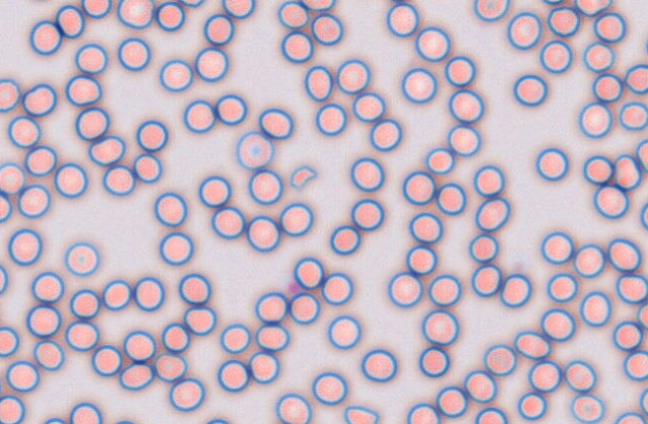RBC: (235, 130, 274, 169), (421, 308, 459, 345), (506, 11, 542, 49), (387, 271, 423, 307), (401, 67, 437, 103), (7, 228, 42, 265), (248, 168, 283, 205), (53, 162, 88, 198), (474, 196, 510, 231), (335, 58, 370, 94), (168, 377, 205, 411), (360, 348, 397, 382), (246, 215, 280, 252), (578, 101, 612, 138), (415, 26, 450, 61), (64, 241, 99, 276), (593, 184, 629, 218), (311, 371, 347, 405), (158, 231, 194, 265), (448, 89, 484, 123), (153, 191, 187, 227), (327, 314, 361, 349), (607, 237, 641, 272), (350, 156, 384, 191), (158, 58, 193, 92), (25, 304, 61, 337), (195, 46, 228, 82), (579, 290, 611, 327), (65, 74, 102, 106), (88, 135, 126, 166), (463, 369, 497, 403), (279, 202, 313, 236), (17, 184, 51, 218), (75, 106, 109, 140), (117, 37, 151, 71), (535, 147, 569, 181), (402, 170, 435, 205), (386, 2, 419, 37), (22, 83, 57, 116), (29, 20, 62, 55), (573, 243, 606, 278), (540, 308, 575, 341), (211, 206, 245, 239), (7, 115, 41, 148), (527, 359, 561, 392), (182, 99, 215, 133), (540, 231, 574, 264), (539, 39, 572, 73), (5, 360, 40, 392), (258, 107, 293, 139), (275, 393, 312, 423), (116, 0, 154, 29), (513, 330, 551, 359), (563, 359, 596, 392), (369, 118, 402, 151), (280, 30, 313, 63), (178, 272, 211, 305), (135, 119, 168, 152), (499, 273, 531, 307), (483, 344, 517, 376), (350, 198, 384, 230), (408, 211, 442, 243), (427, 274, 461, 306), (30, 271, 64, 303), (513, 74, 547, 106), (74, 42, 108, 74), (64, 320, 99, 351), (133, 276, 164, 311), (613, 153, 642, 190), (304, 64, 333, 101), (254, 291, 287, 323), (217, 359, 249, 392), (310, 13, 343, 45), (321, 272, 353, 305), (198, 175, 231, 207), (447, 124, 480, 156), (315, 102, 347, 135), (470, 263, 501, 297), (546, 6, 580, 37), (570, 393, 605, 423), (436, 385, 468, 417), (215, 93, 247, 125), (123, 330, 156, 361), (293, 256, 324, 289), (24, 145, 57, 176), (102, 164, 135, 195), (352, 91, 385, 122), (593, 11, 626, 42), (473, 164, 504, 197), (118, 362, 154, 390), (248, 351, 279, 383), (615, 273, 647, 304), (289, 292, 320, 324), (91, 344, 122, 376), (405, 244, 437, 275), (418, 346, 450, 377), (33, 339, 65, 370), (444, 55, 475, 87), (582, 41, 614, 72), (203, 13, 234, 45), (154, 352, 187, 382), (183, 305, 216, 335), (436, 182, 466, 215), (55, 4, 84, 38), (255, 323, 290, 351), (612, 320, 643, 351), (69, 288, 100, 319), (101, 279, 132, 310), (582, 154, 614, 184), (219, 323, 251, 353), (546, 272, 578, 302), (154, 1, 185, 31), (329, 225, 360, 255), (592, 72, 623, 102), (468, 233, 499, 263), (277, 0, 309, 29), (160, 322, 190, 352), (517, 391, 547, 420), (133, 153, 162, 183), (618, 101, 647, 130), (424, 147, 454, 175), (0, 162, 25, 194), (622, 349, 647, 381), (473, 0, 509, 21), (0, 394, 25, 423), (406, 402, 440, 423), (624, 63, 647, 94), (0, 77, 20, 112), (69, 402, 102, 423), (221, 0, 255, 19), (574, 0, 612, 16), (474, 406, 507, 424), (0, 325, 19, 356), (80, 0, 111, 18), (613, 411, 646, 424), (635, 138, 647, 172), (301, 0, 336, 11), (0, 192, 12, 222), (639, 387, 648, 417), (637, 302, 647, 329), (0, 263, 8, 294), (640, 200, 648, 230), (177, 0, 204, 7), (42, 417, 68, 424), (203, 418, 231, 424), (548, 420, 583, 424), (112, 419, 139, 424), (152, 0, 178, 5), (541, 0, 566, 5), (388, 0, 422, 3), (0, 373, 3, 397), (645, 35, 648, 55), (27, 0, 56, 2)
Schistocyte: (291, 164, 318, 190), (344, 405, 379, 424)
